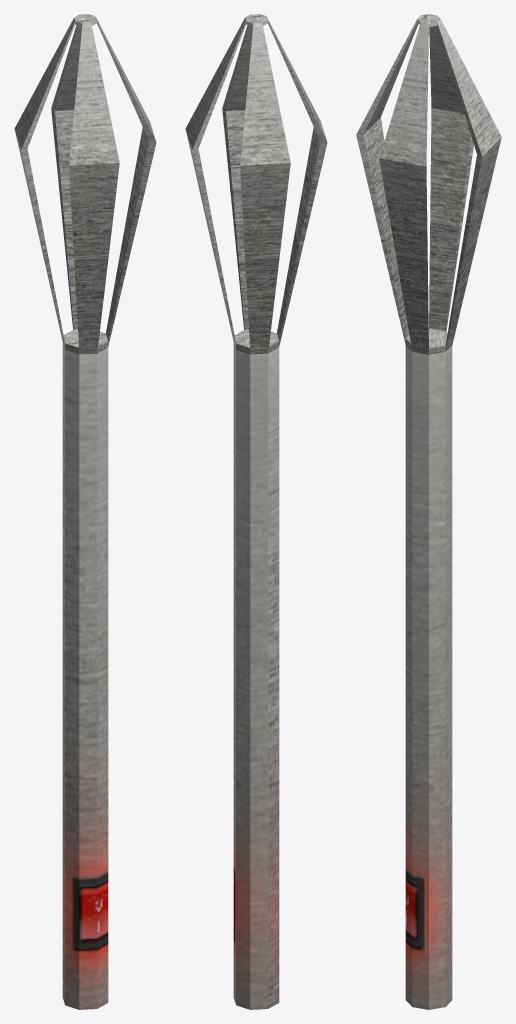
Rendered from whisk.fbx.
3 views of the same model, side by side, from view 1: azimuth 30°, elevation 25°; view 2: azimuth 210°, elevation 25°; view 3: azimuth 270°, elevation 25° (orthographic).
Parts seen in each view (by area): view 1: Cylinder; view 2: Cylinder; view 3: Cylinder.
Boxes of the visible parts, x1,y1,x2,y2 form: Cylinder: [14, 14, 156, 1009]; Cylinder: [185, 14, 327, 1009]; Cylinder: [356, 14, 501, 1009].
Size of the model in its own units: 8.06 by 59.9 by 8.06.
Materials: 1 (1 with a texture image).
